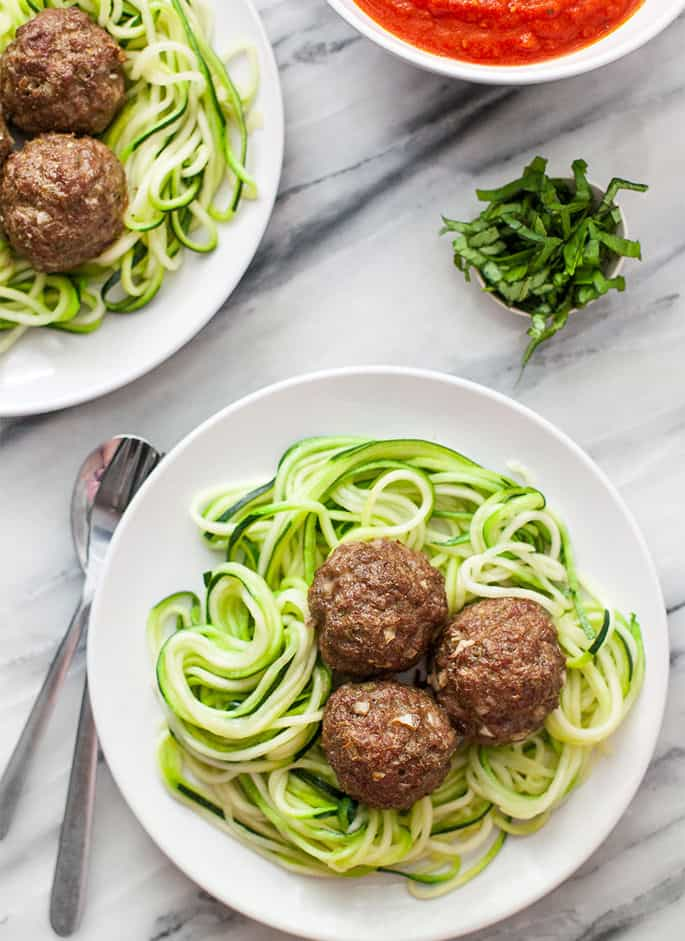meatballs: (431, 591, 556, 739), (12, 131, 118, 280), (328, 692, 451, 808), (4, 27, 116, 136), (317, 548, 431, 654)
plain spaghetti: (142, 454, 646, 900), (72, 2, 272, 337)
